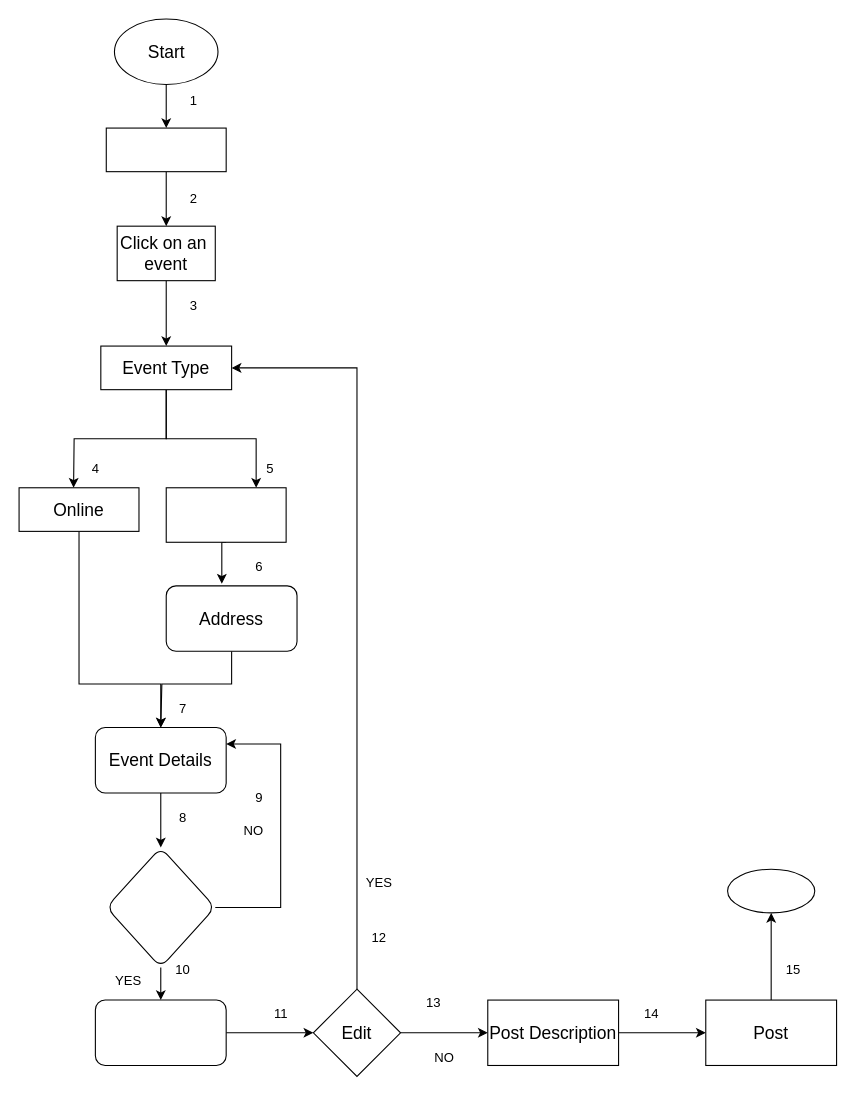
Image size: 856x1095. Some labels were removed from this diagram. The box of each missing label's shape, as (x1, y1, x2, y2) in pixels:
End: (726, 868, 815, 913)
Filled Mandatory: (105, 846, 215, 967)
Logged In: (105, 127, 226, 172)
Onsite: (165, 487, 286, 542)
Proceed: (94, 999, 226, 1065)
